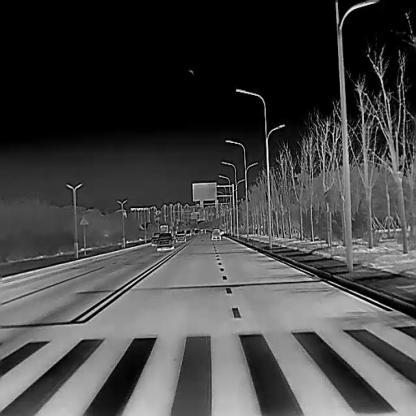car: (156, 233, 175, 250), (210, 226, 222, 239), (150, 232, 161, 246), (175, 229, 186, 242), (185, 229, 191, 236), (193, 228, 199, 235)
